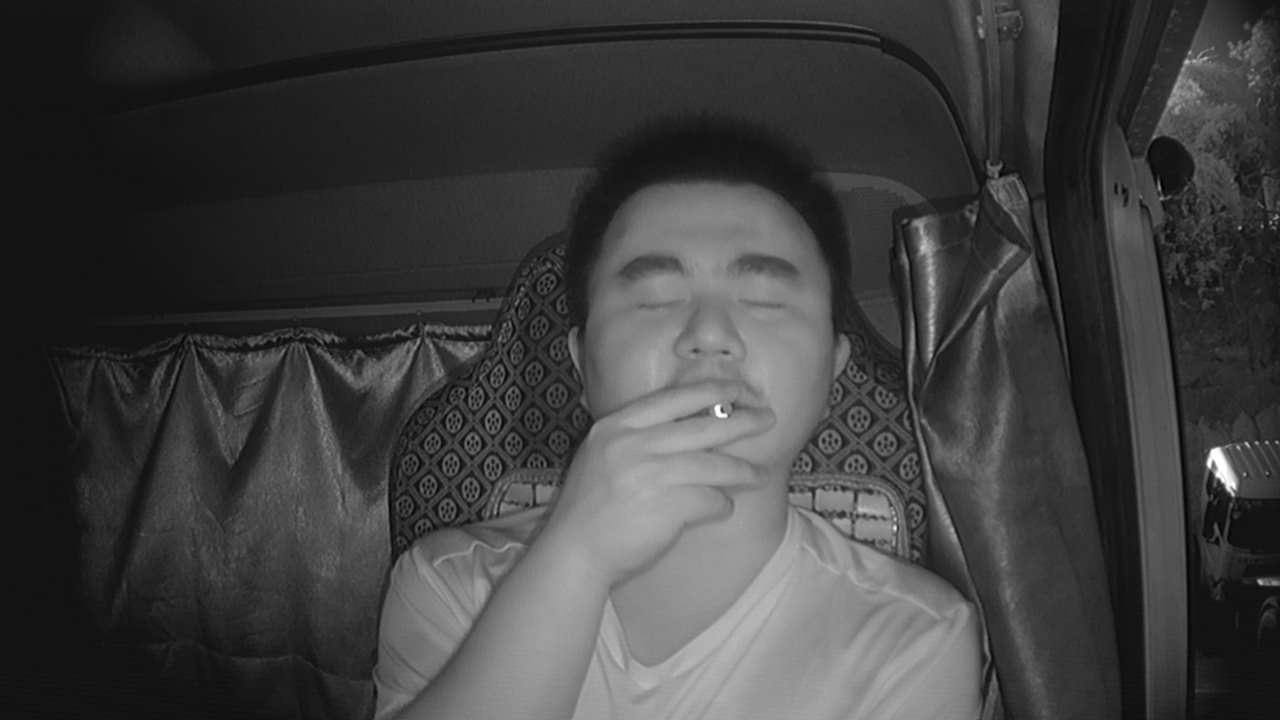hand: (575, 383, 777, 548)
